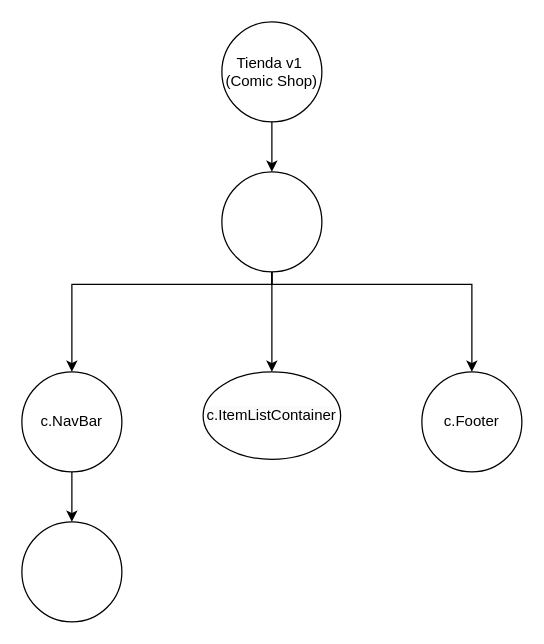
The diagram is 544 pixels wide and 644 high, and some of its shapes have lost their labels. The box of each missing label's shape, as (x1, y1, x2, y2) in pixels:
c.CartWidget: (21, 521, 122, 622)
index.js: (221, 171, 322, 272)
